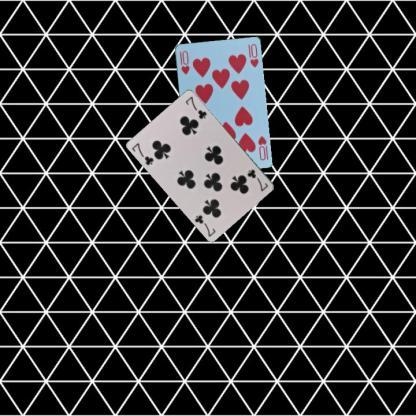10h: (254, 132, 268, 162), (176, 48, 190, 76)
7c: (129, 140, 155, 166), (245, 166, 270, 192)
